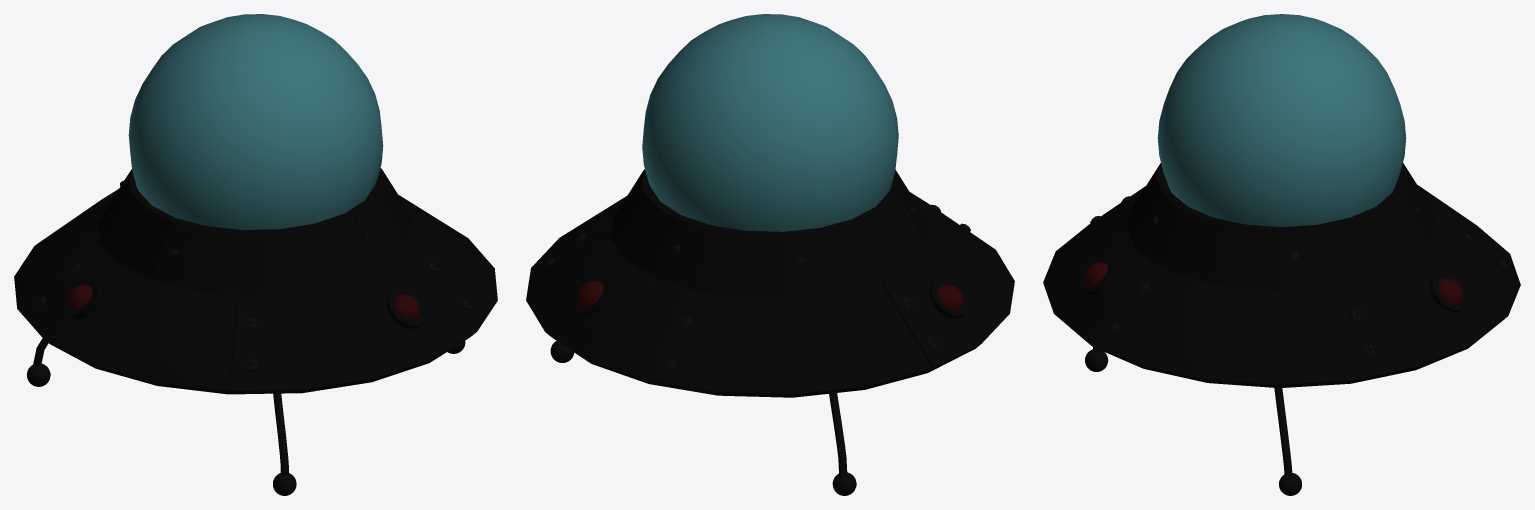
Rendered from Spaceship.dae.
3 views of the same model, side by side, from view 1: azimuth 30°, elevation 25°; view 2: azimuth 150°, elevation 25°; view 3: azimuth 270°, elevation 25° (orthographic). The views are drawn at different scales.
Visible parts, largest first — view 1: pCube23; view 2: pCube23; view 3: pCube23.
Part boxes in pixels (x1=…): pCube23: x1=14, y1=14, x2=497, y2=495; pCube23: x1=526, y1=14, x2=1014, y2=495; pCube23: x1=1043, y1=14, x2=1520, y2=495.
Bounding box in the file's own units: 12.14 × 10.53 × 12.11.
